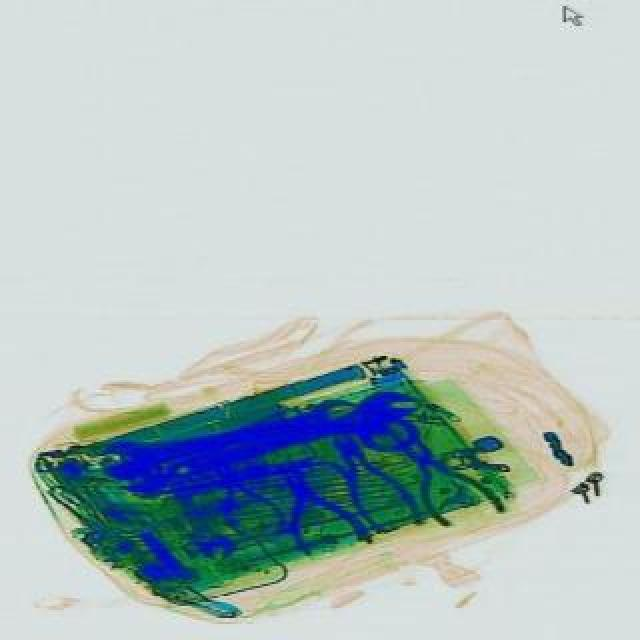scissors: (164, 380, 422, 492), (94, 388, 358, 482), (156, 468, 240, 568)
wrench: (366, 402, 504, 546), (252, 446, 368, 566), (316, 420, 420, 544), (202, 464, 286, 550)
